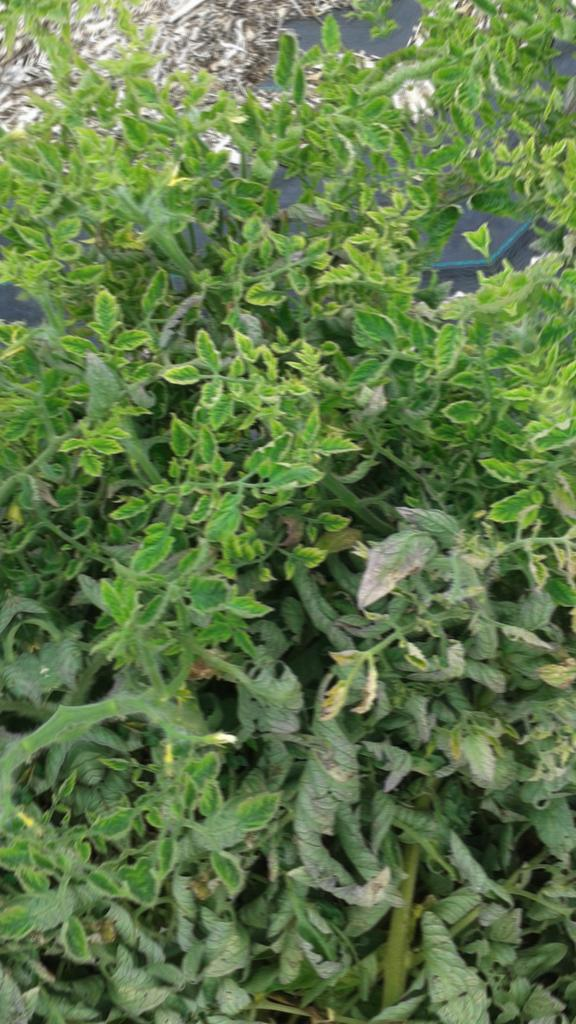Tomato leaf yellow virus: (112, 508, 197, 586), (178, 557, 258, 631), (295, 106, 364, 186), (411, 312, 484, 387), (482, 478, 560, 542), (213, 576, 286, 642), (191, 486, 265, 549), (90, 569, 146, 650), (343, 295, 405, 367), (54, 317, 115, 385), (256, 27, 322, 89), (430, 387, 495, 443), (263, 453, 331, 505), (78, 286, 134, 349), (2, 135, 56, 197), (248, 425, 308, 479), (38, 215, 95, 270), (334, 353, 393, 404), (475, 443, 530, 496), (312, 421, 369, 471), (310, 493, 370, 540), (396, 170, 443, 229), (7, 204, 58, 258), (288, 397, 339, 450), (311, 255, 368, 302), (187, 323, 232, 378), (351, 113, 399, 162), (110, 317, 161, 363), (115, 106, 160, 157), (195, 144, 247, 187), (156, 408, 198, 461), (284, 533, 334, 577), (188, 424, 232, 473), (309, 11, 353, 59), (83, 426, 131, 468), (60, 258, 111, 297), (242, 275, 286, 320), (194, 371, 239, 415), (161, 358, 208, 400), (226, 322, 266, 369), (237, 210, 274, 250)
